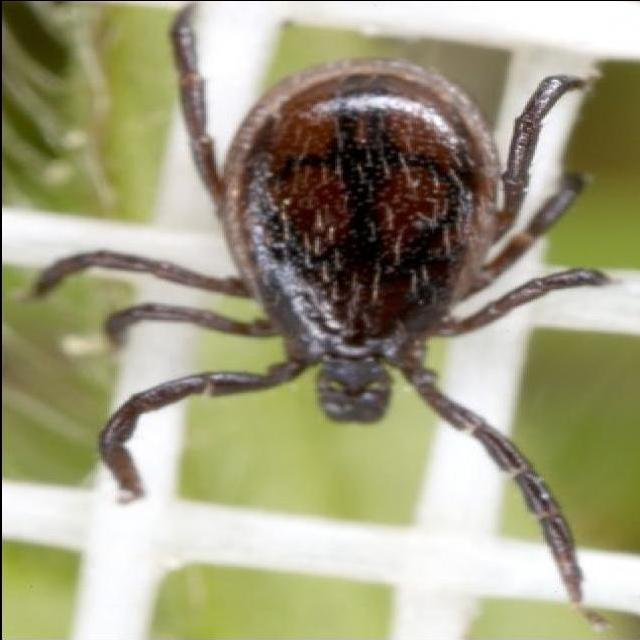Ixodes Ricinus-M: (32, 0, 614, 608)
